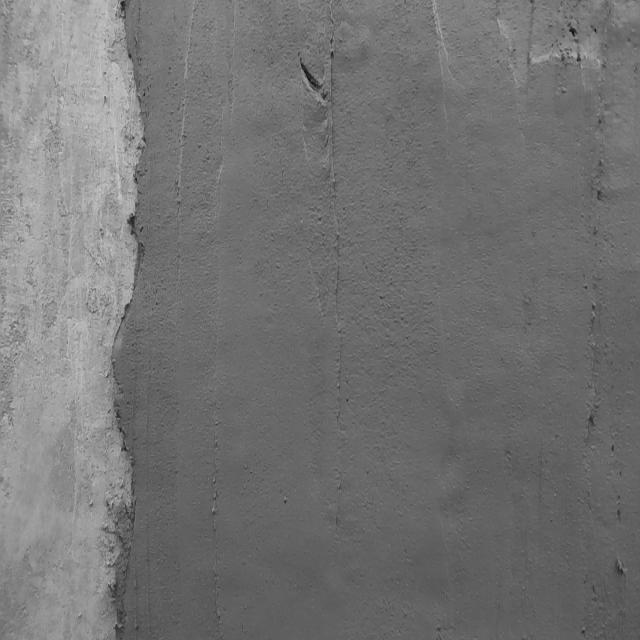trowels marks: (323, 6, 346, 558), (587, 106, 605, 516), (206, 389, 231, 640)
